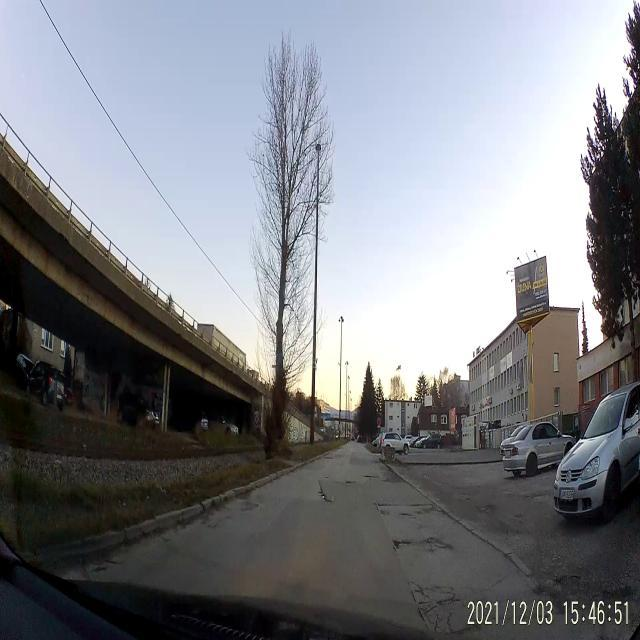Pothole: (423, 530, 455, 556), (389, 532, 416, 554), (372, 499, 396, 518), (318, 486, 334, 509), (408, 500, 438, 512)
